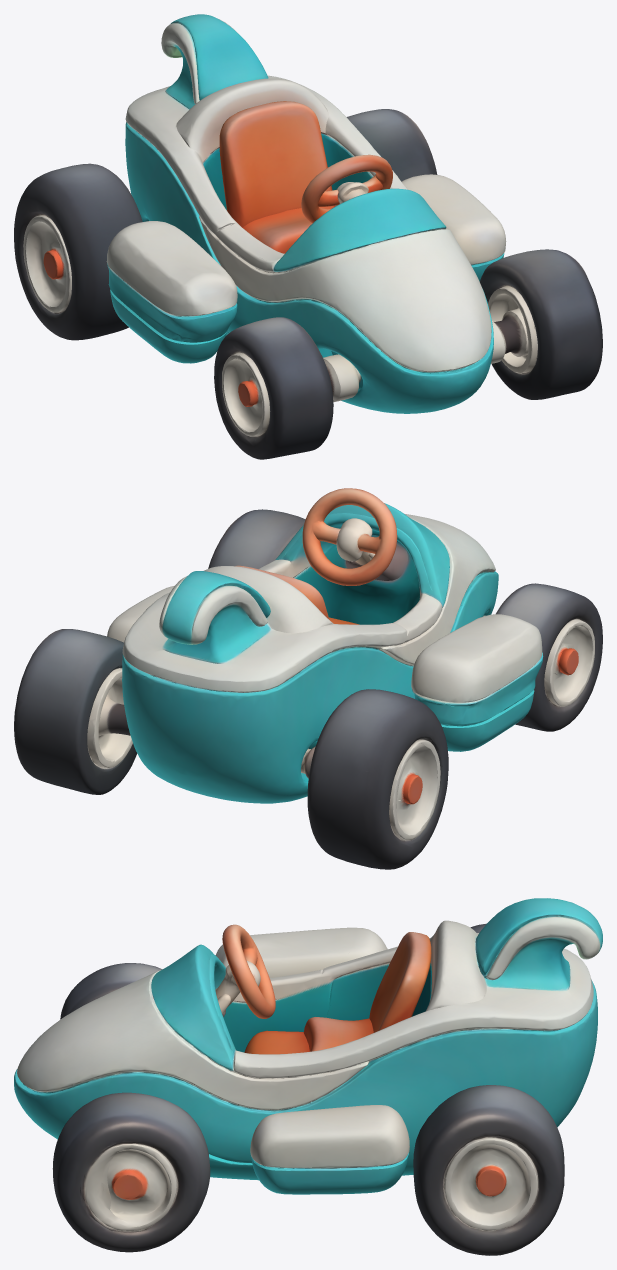
The model's file is reef-cartoon-source.glb.
3 views of the same model, one above another, from view 1: azimuth 30°, elevation 25°; view 2: azimuth 150°, elevation 25°; view 3: azimuth 270°, elevation 25° (orthographic). The views are drawn at different scales.
Parts seen in each view (by area): view 1: model; view 2: model; view 3: model.
Part boxes in pixels (x1,y1,x2,y2): model: (14,14,602,459); model: (14,488,602,869); model: (14,898,602,1255).
Size of the model in its own units: 1.42 by 0.9565 by 1.9.
Materials: 1 (1 with a texture image).
